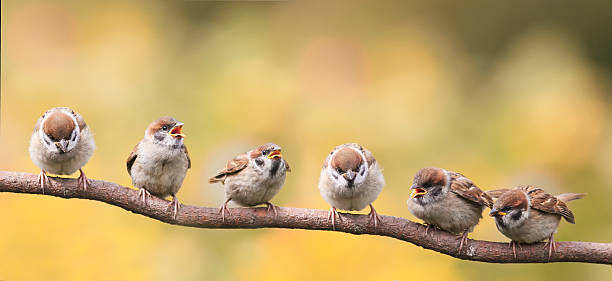Bird: (406, 159, 492, 249), (122, 113, 195, 214), (491, 183, 587, 258), (206, 142, 293, 221), (24, 103, 96, 192), (317, 139, 384, 229)
